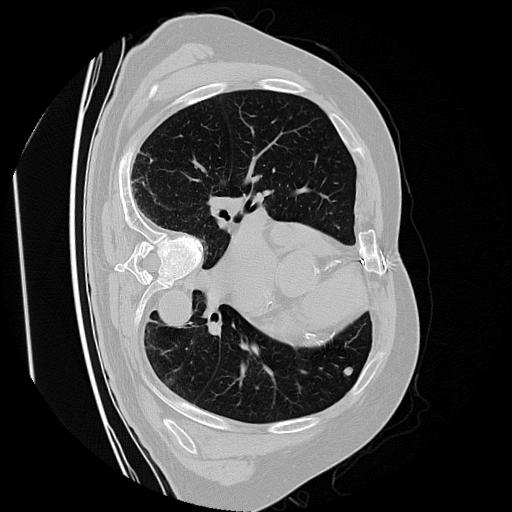nodule: (342, 364, 357, 379)
